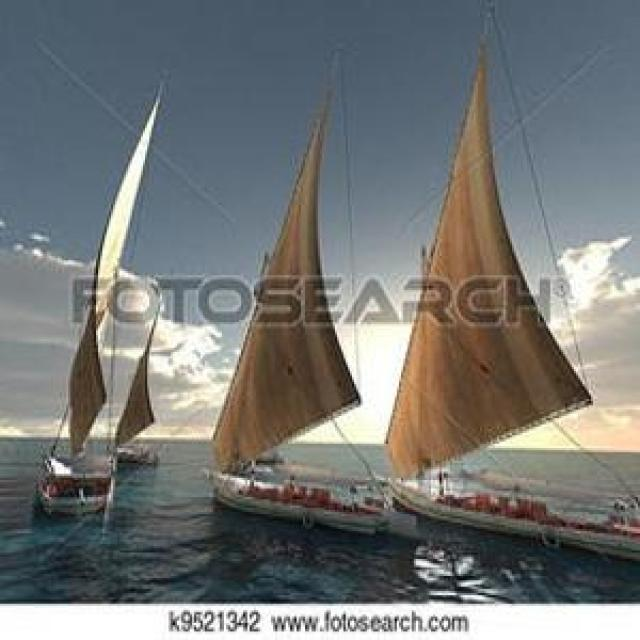sailboat: (390, 0, 640, 553), (203, 45, 404, 536), (29, 73, 169, 526), (111, 298, 170, 471)
